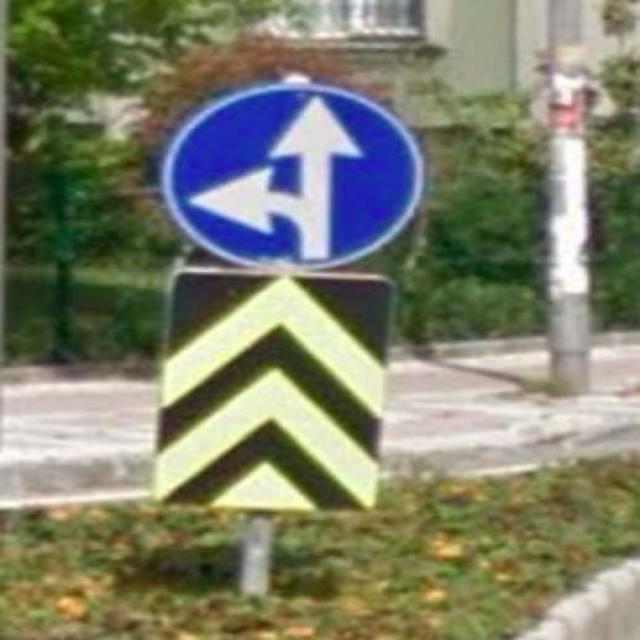ilerisol: (163, 81, 421, 266)
